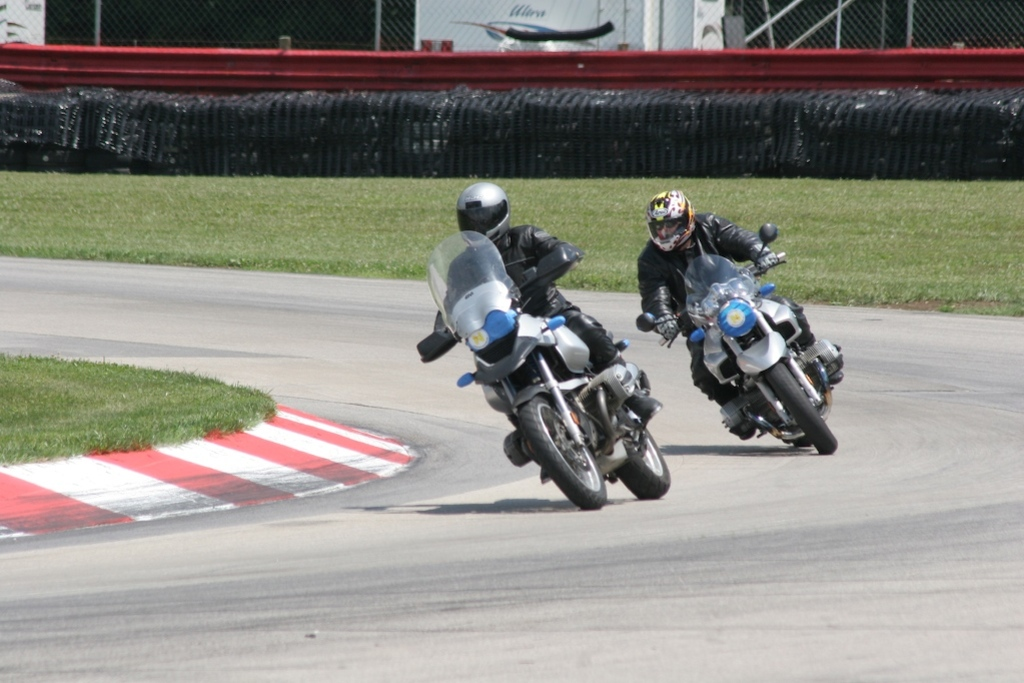Person: (416, 181, 662, 484), (637, 190, 841, 440)
